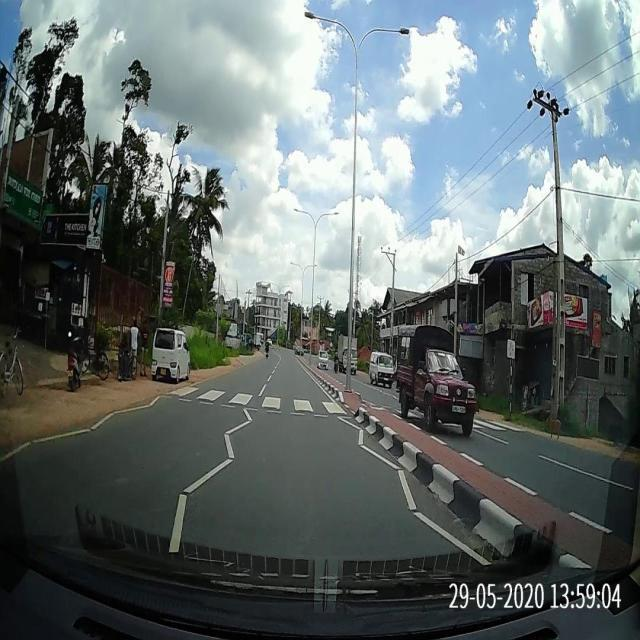Crosswalk: (151, 383, 355, 419)
